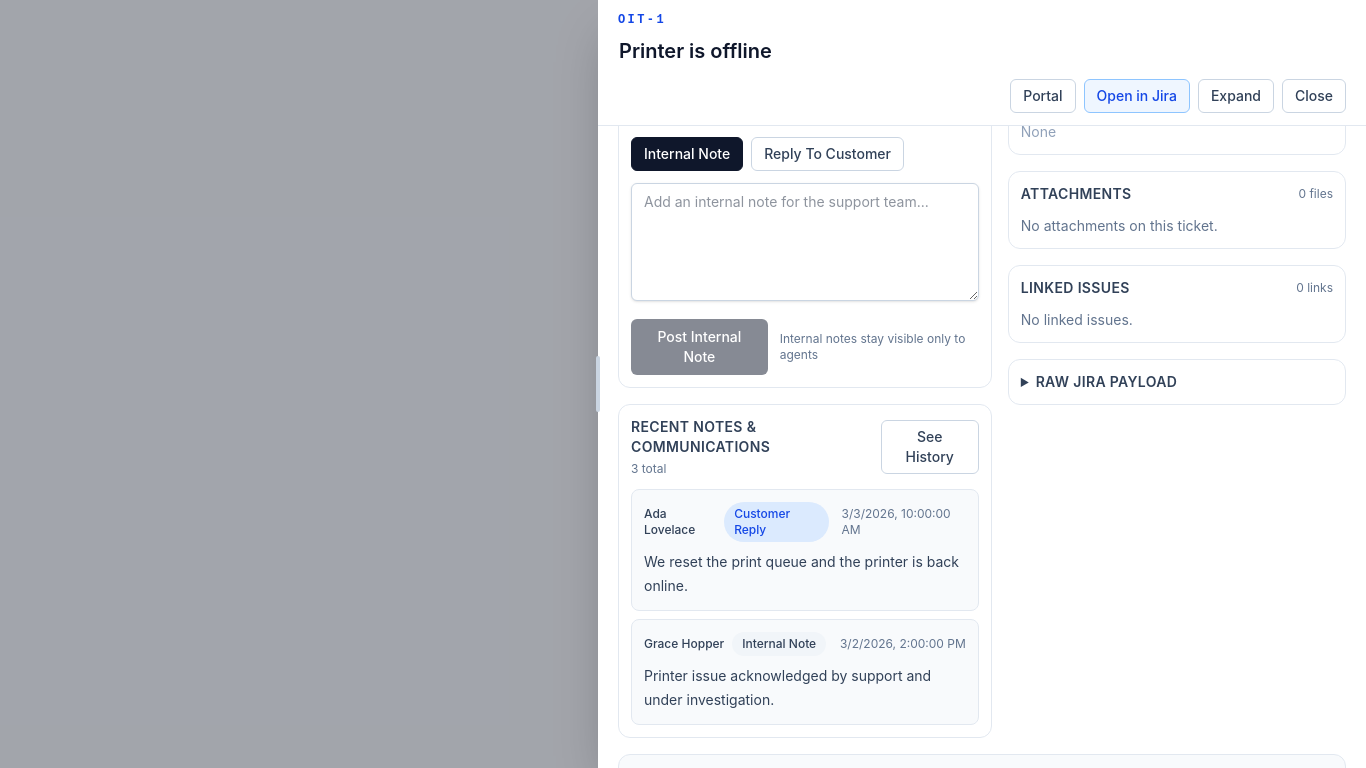
Test: TicketWorkbenchDrawer › opens a history popout with the full notes and communication timeline
The width and height of the screenshot is (1366, 768).
(page scrolled)
Expected: the text "Initial customer report captured from the service portal." is not shown
Click the button "See History". click: (930, 447)
box: [881,420,979,474]
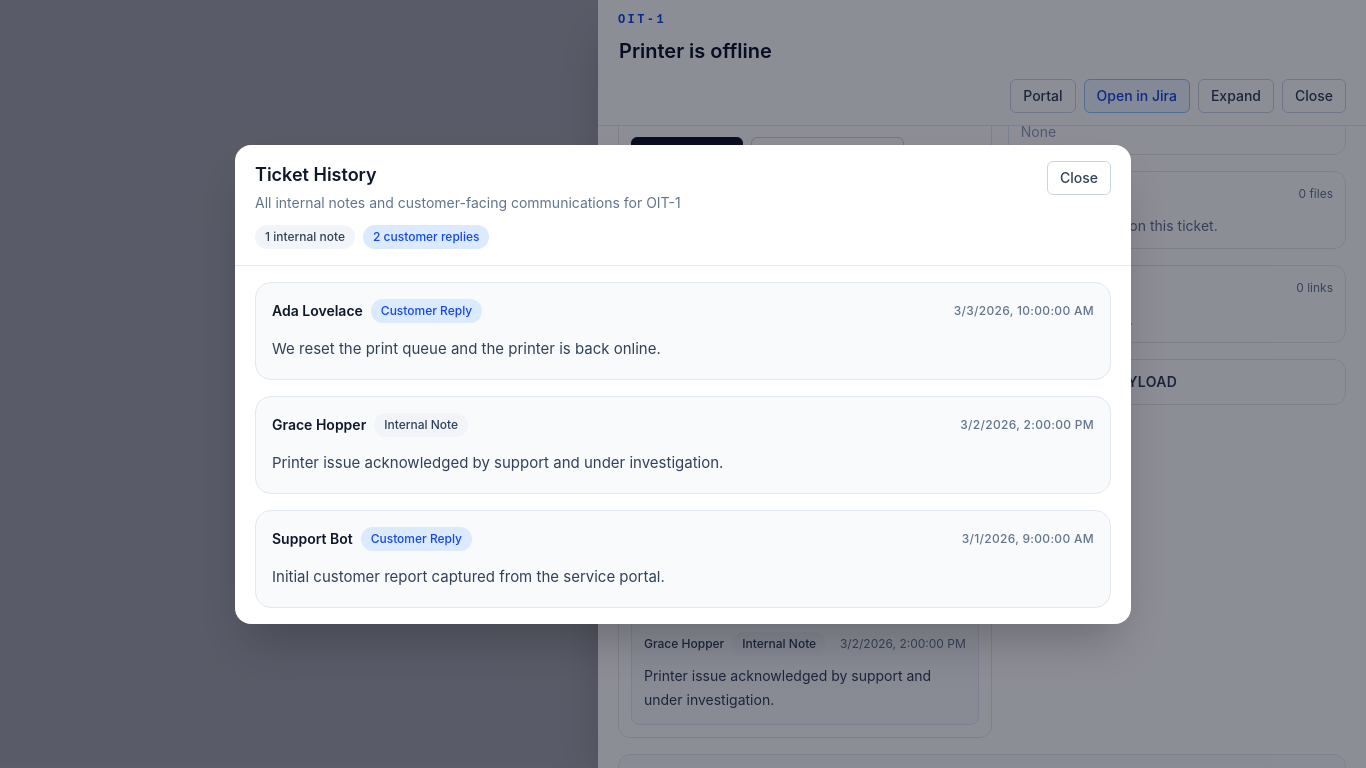
Now the dialog is shown, box [235,144,1131,624]
Now the heading "Ticket History" is shown, box [255,164,377,184]
Now the text "Initial customer report captured from the service portal." is shown, box [272,566,665,586]
